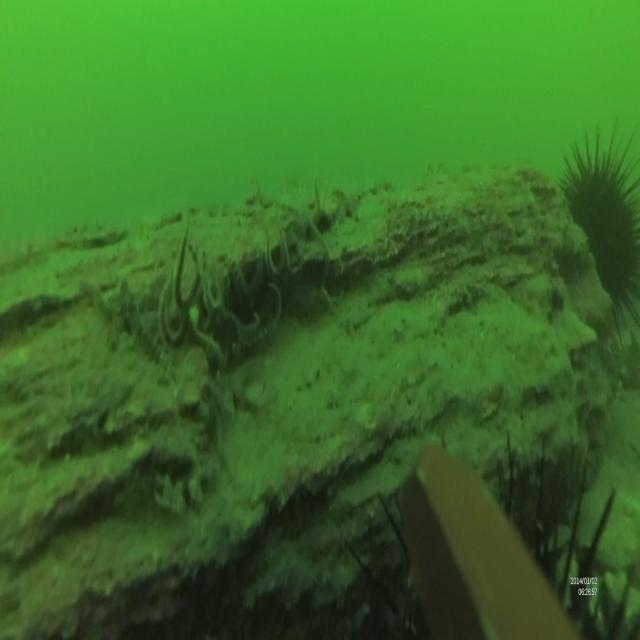echinus: (354, 450, 640, 640), (562, 114, 640, 342)
